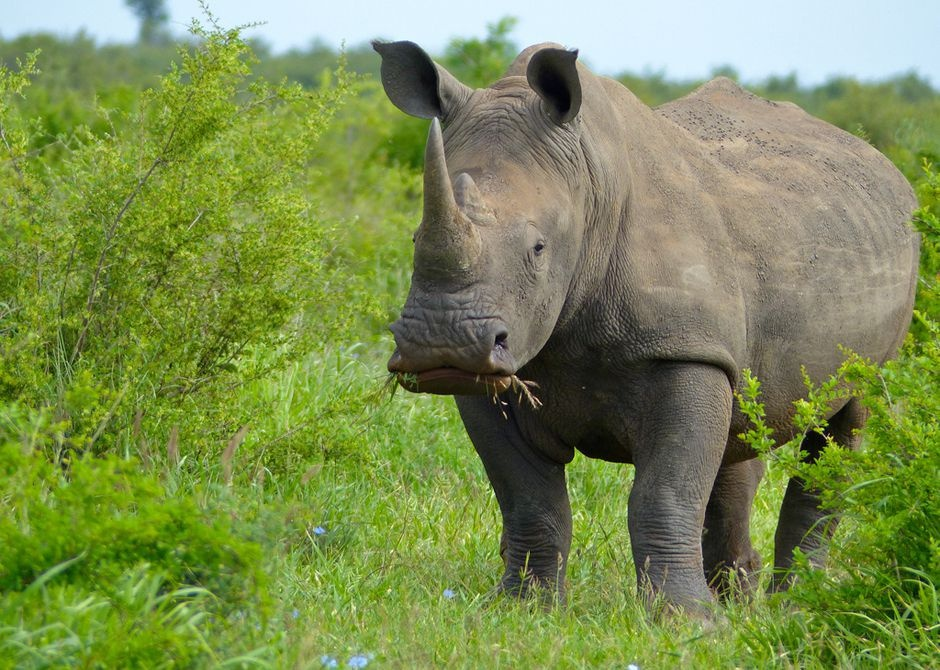rhino: (370, 36, 923, 627)
